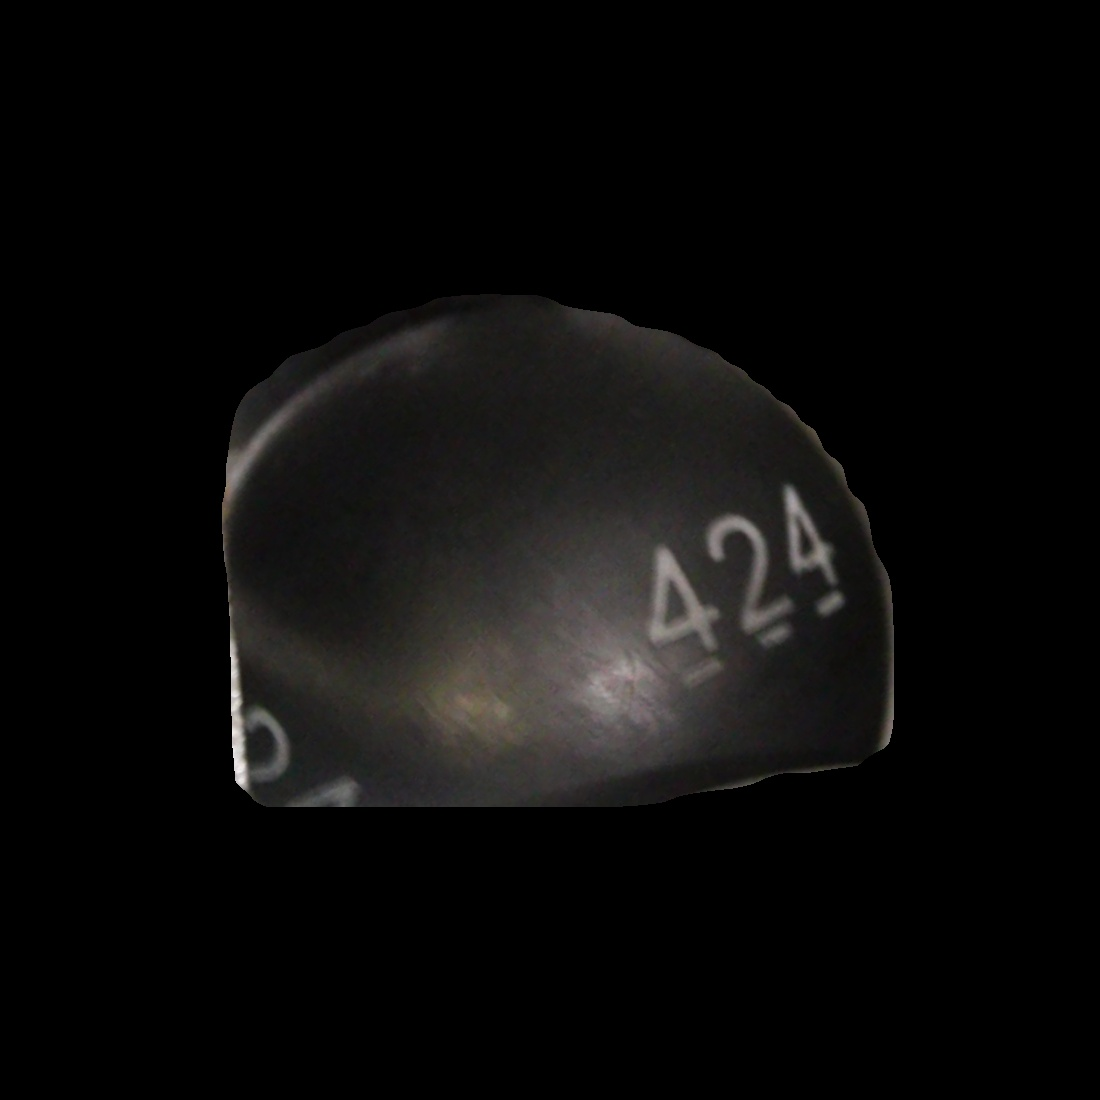digits: (644, 485, 846, 689)
